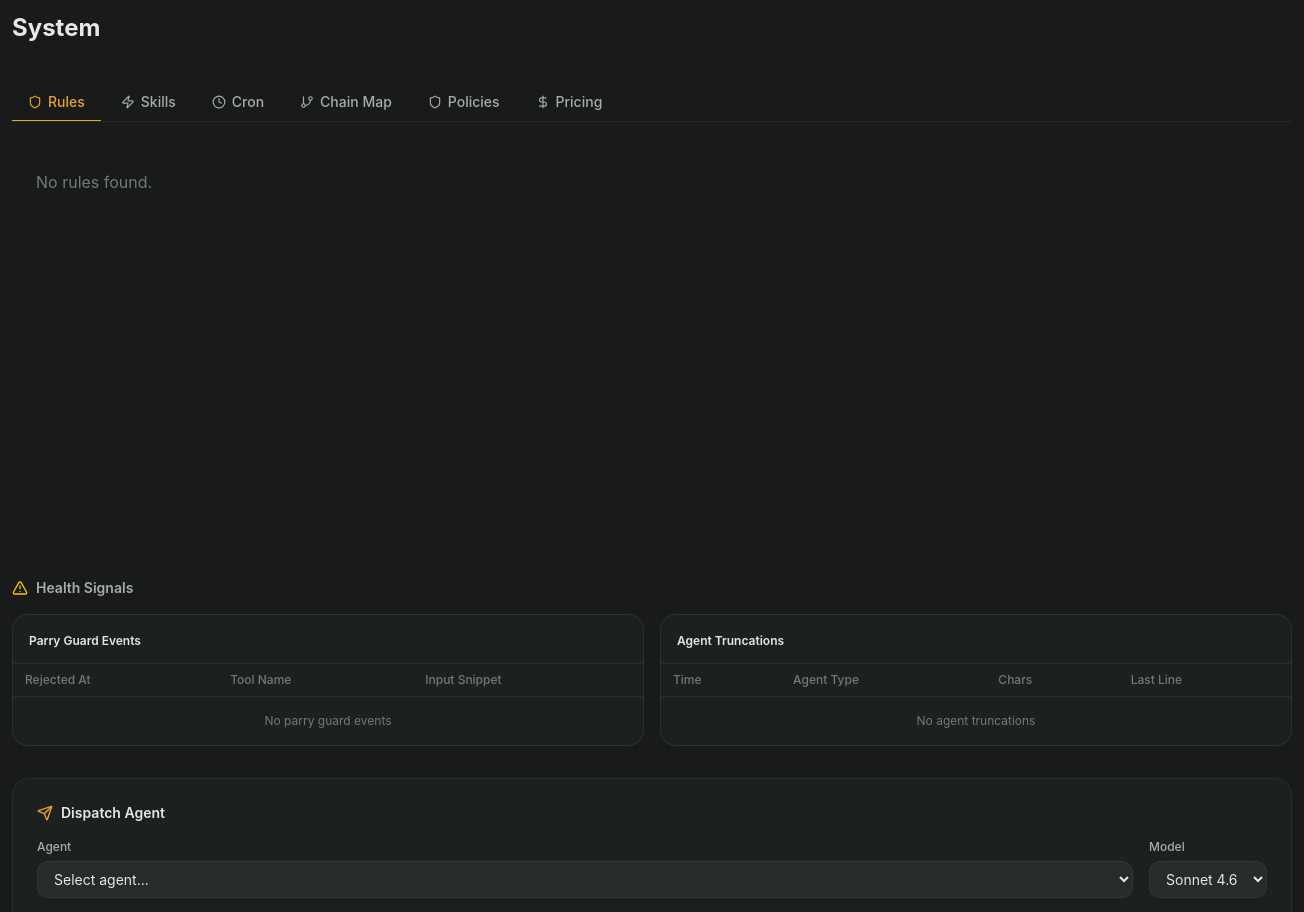
Test: SystemView — PricingTab rate card › renders real model names (not _comment / _note / models keys)
The image size is (1304, 912).
Click the button "Pricing" at coordinates (569, 103), box top-left (520, 84), bottom-right (618, 122)
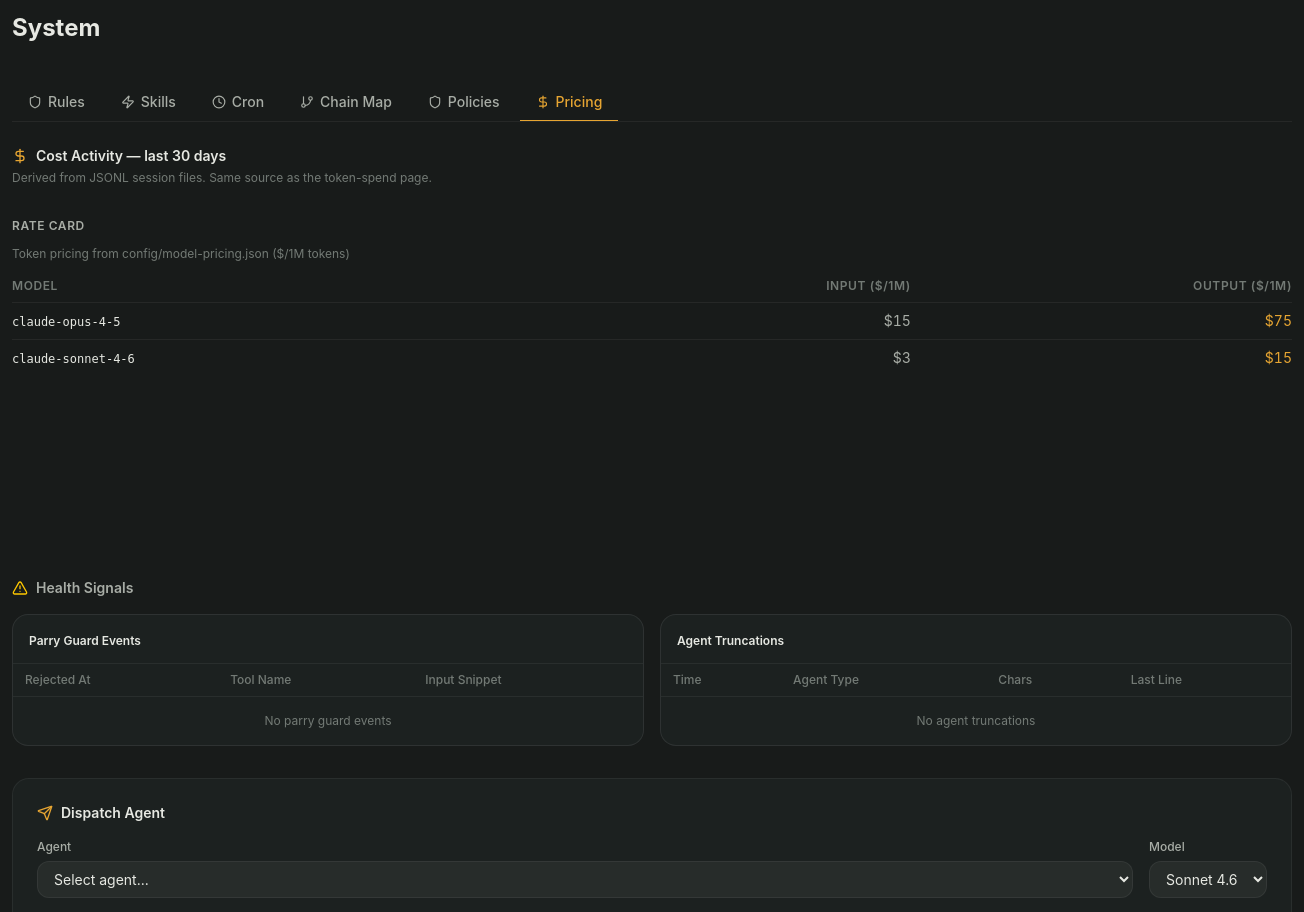
Now the text "claude-opus-4-5" is shown, box top-left (12, 315), bottom-right (120, 329)
Now the text "claude-sonnet-4-6" is shown, box top-left (12, 352), bottom-right (135, 366)
